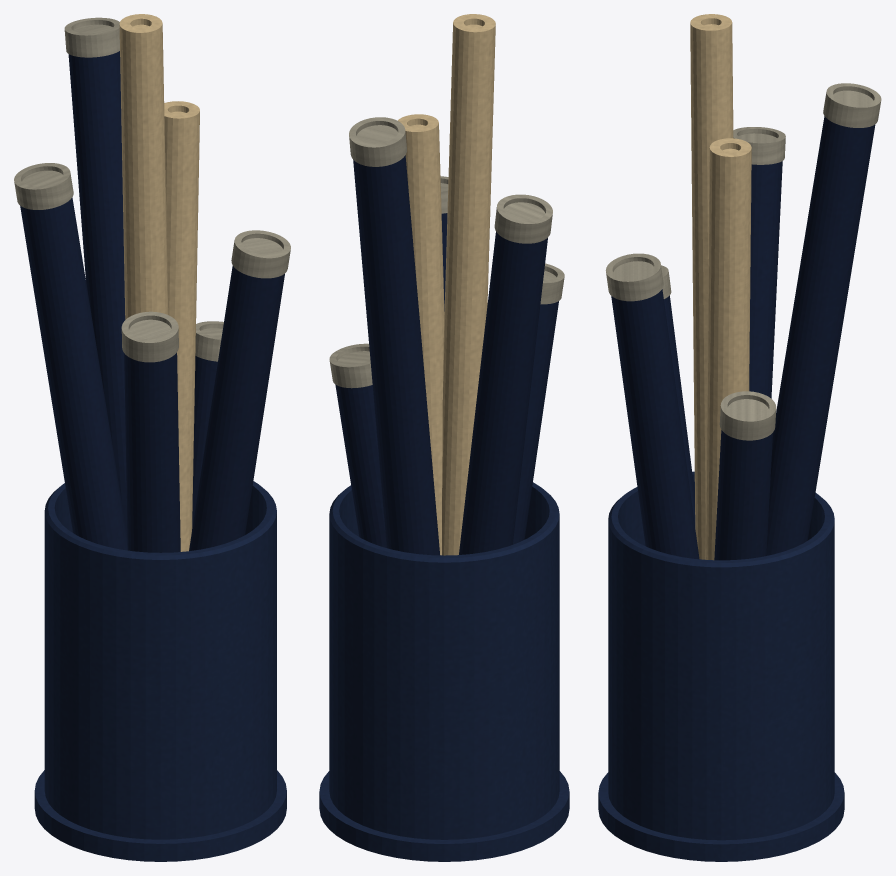
The picture shows the model from 3 angles, left to right: view 1: azimuth 30°, elevation 25°; view 2: azimuth 150°, elevation 25°; view 3: azimuth 270°, elevation 25°; orthographic projection. The views are drawn at different scales.
Parts seen in each view (by area): view 1: studio-drawing-tubes; view 2: studio-drawing-tubes; view 3: studio-drawing-tubes.
Boxes of the visible parts, box(x1,y1,x2,y2) form: studio-drawing-tubes: box(14, 14, 290, 861); studio-drawing-tubes: box(319, 14, 569, 861); studio-drawing-tubes: box(598, 14, 881, 861).
Bounding box in the file's own units: 0.1626 × 0.5292 × 0.1749.
4 materials, 4 textured.
